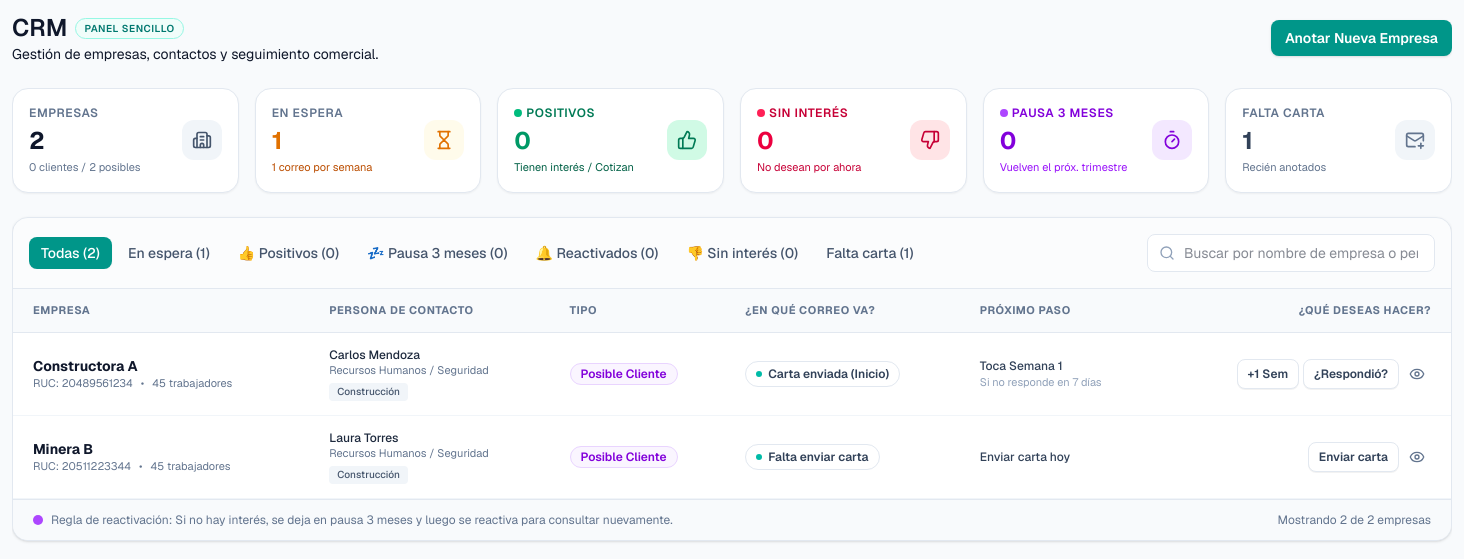
Test: PanelCrm — panel montado › filters the rows when a tab is selected
This screenshot has width=1464, height=559.
Expected: the table is shown, x1=13 y1=288 x2=1451 y2=499
Click the button "Falta carta (1)": (870, 252) x1=814 y1=236 x2=926 y2=268
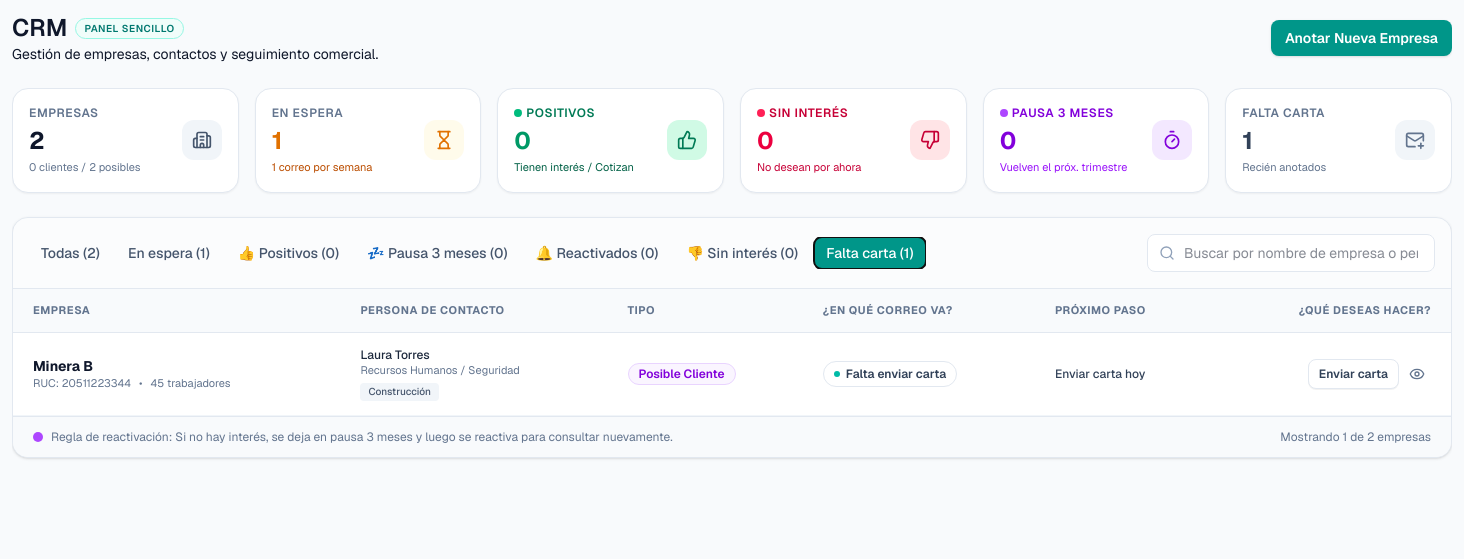
Expected: the button "Minera B" is shown, x1=33 y1=356 x2=93 y2=376
Now the button "Constructora A" is gone
